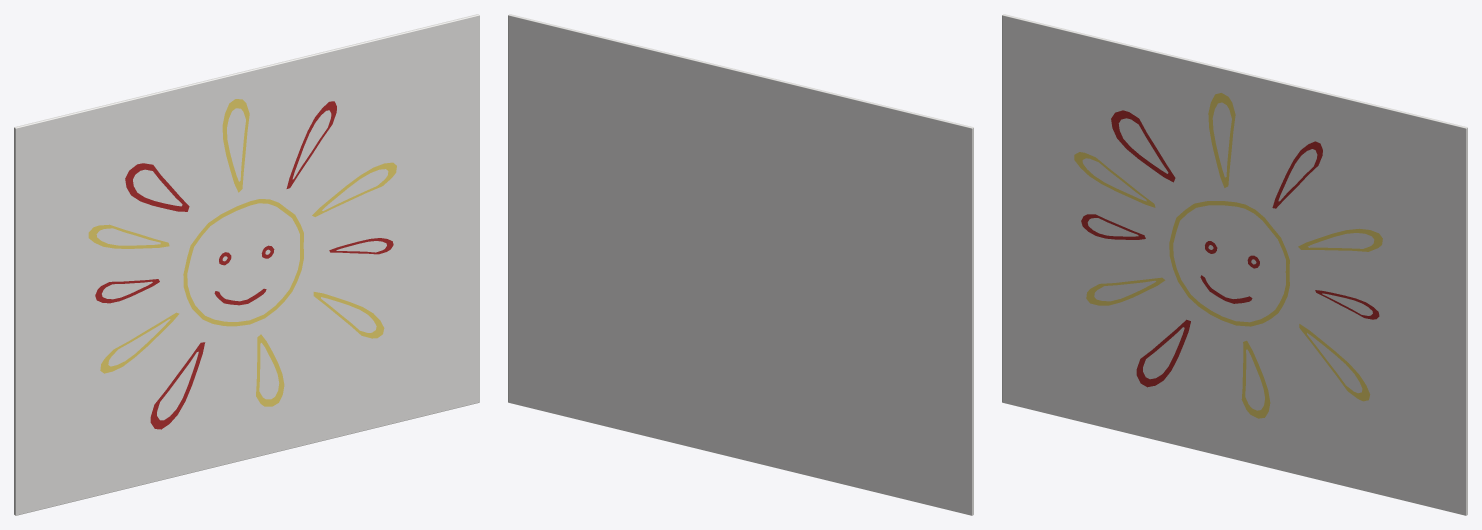
Rendered from Frame_6.glb.
The picture shows the model from 3 angles, left to right: view 1: azimuth 30°, elevation 25°; view 2: azimuth 150°, elevation 25°; view 3: azimuth 330°, elevation 25°; orthographic projection.
Visible parts, largest first — view 1: Childrens_Drawing_1; view 2: Childrens_Drawing_1; view 3: Childrens_Drawing_1.
Boxes of the visible parts, left/top/right/bottom form: Childrens_Drawing_1: left=14, top=14, right=479, bottom=515; Childrens_Drawing_1: left=508, top=14, right=973, bottom=515; Childrens_Drawing_1: left=1002, top=14, right=1467, bottom=515.
Bounding box in the file's own units: 1.28 × 1.02 × 0.0094.
1 material, 1 textured.
